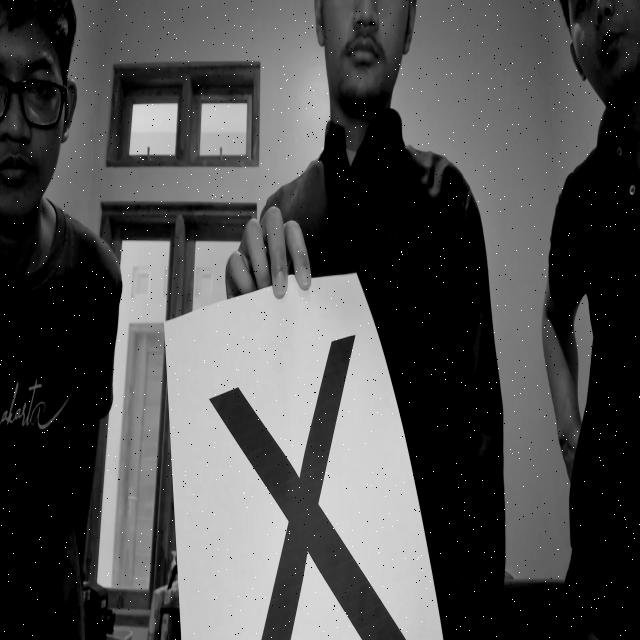x: (199, 318, 425, 640)
